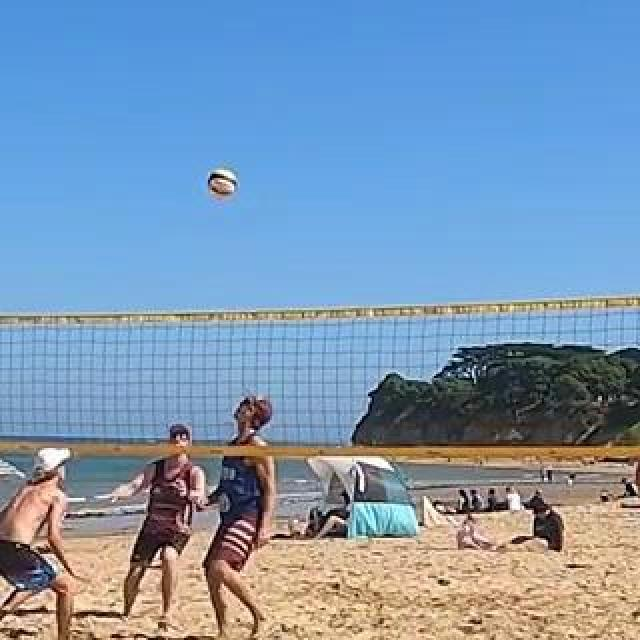volleyball: (209, 173, 239, 201)
